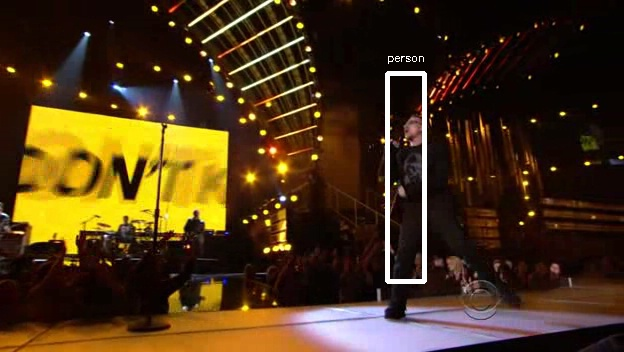person: (386, 117, 453, 227), (383, 117, 450, 227), (389, 117, 456, 227), (386, 114, 453, 224), (386, 120, 453, 230)
target_negative: (170, 210, 467, 251), (563, 91, 608, 348), (563, 182, 602, 293), (183, 9, 473, 17), (595, 47, 599, 121)
